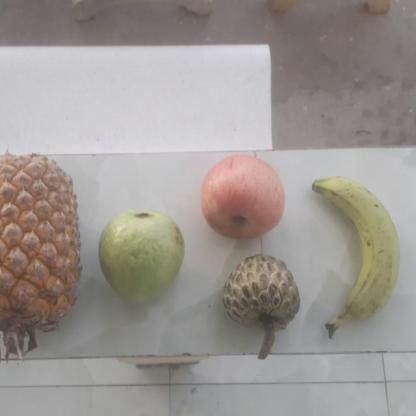annona: (220, 256, 301, 338)
apple: (197, 155, 287, 243)
banana: (308, 175, 398, 326)
guava: (95, 209, 183, 306)
pineapple: (0, 153, 79, 335)
